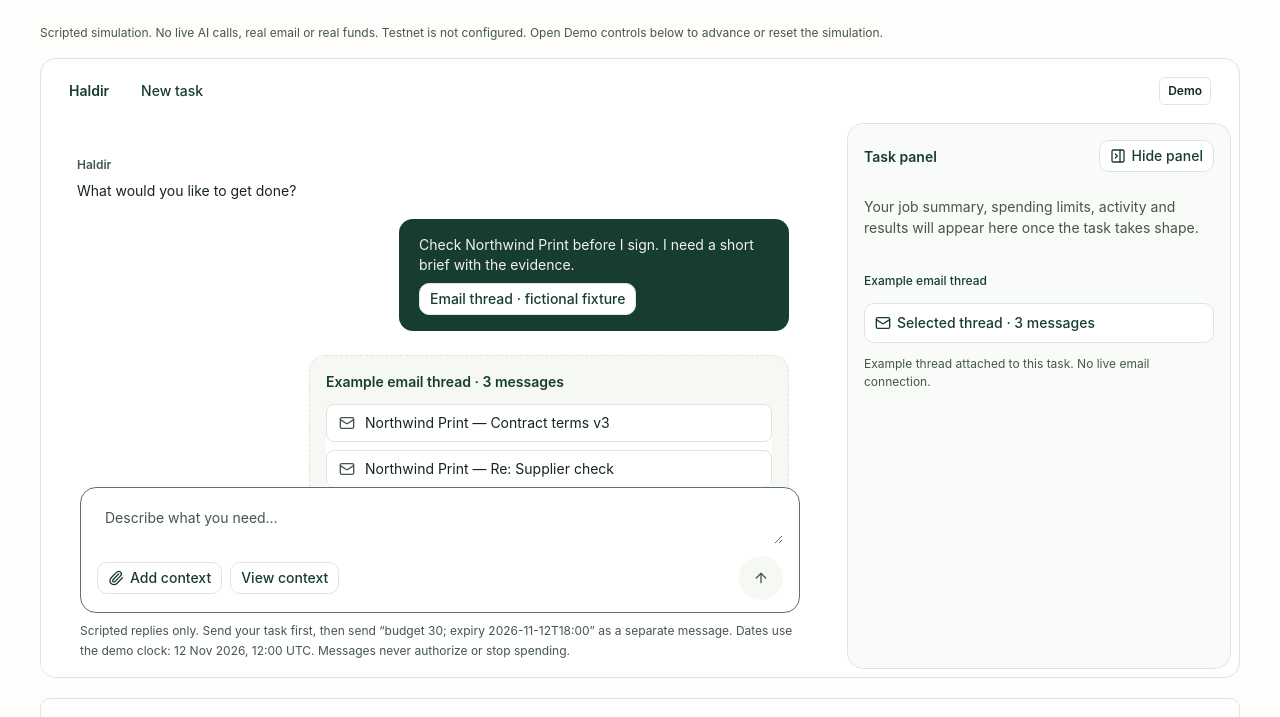
conversation uses Haldir text alone for initial, scripted and delivered responses without removing header identity
The image size is (1280, 717).
Later steps or results of the test are not shown.
Type "Check supplier" into the text box named "Your message" at (440, 522), box [97,500,783,544]
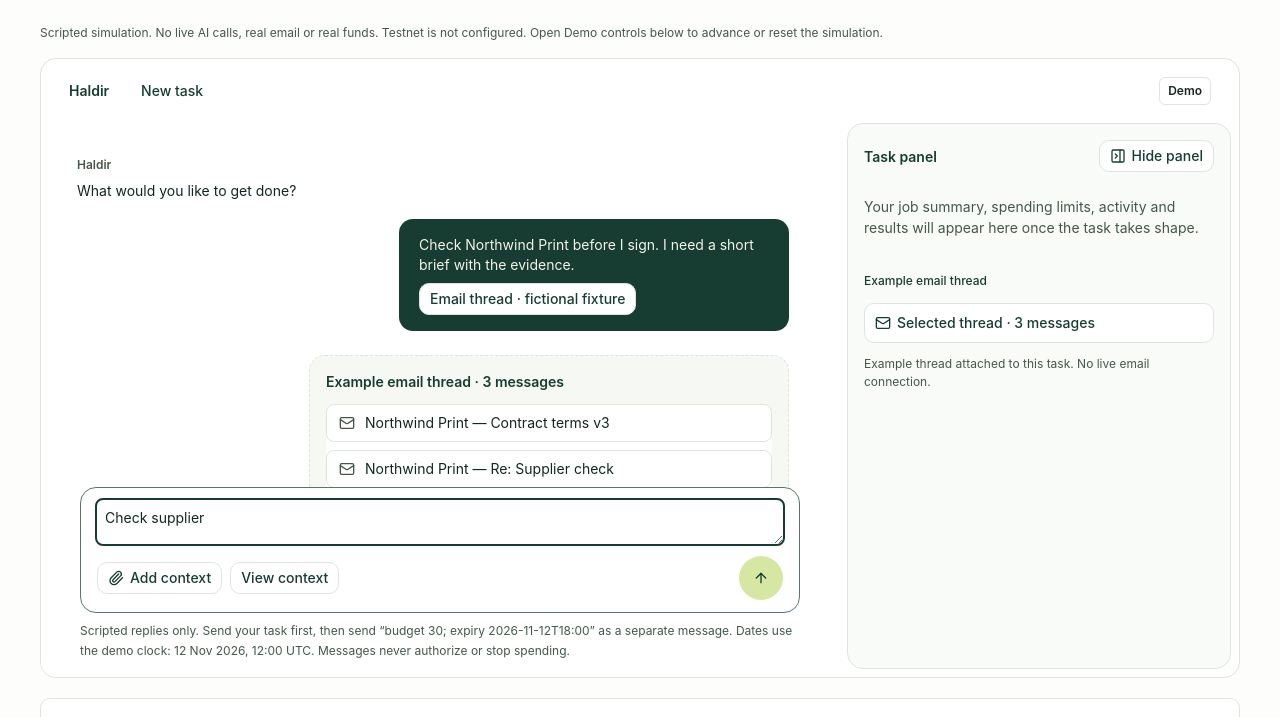
Click the button named "Send message" at (761, 578), box [739,556,783,600]
(page scrolled)
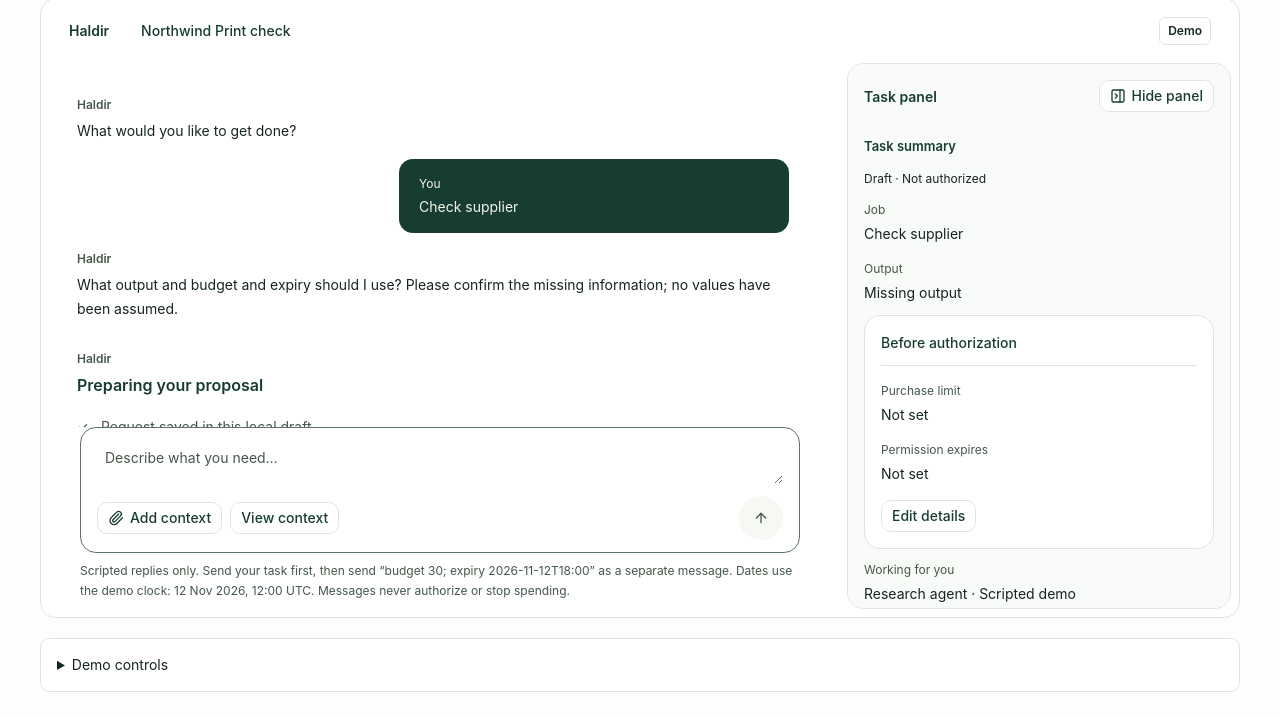
Check: the 2nd text with class "agent-name" reads "Haldir", box [77,97,111,112]
Check: the 3rd text with class "agent-name" reads "Haldir", box [77,251,111,266]
